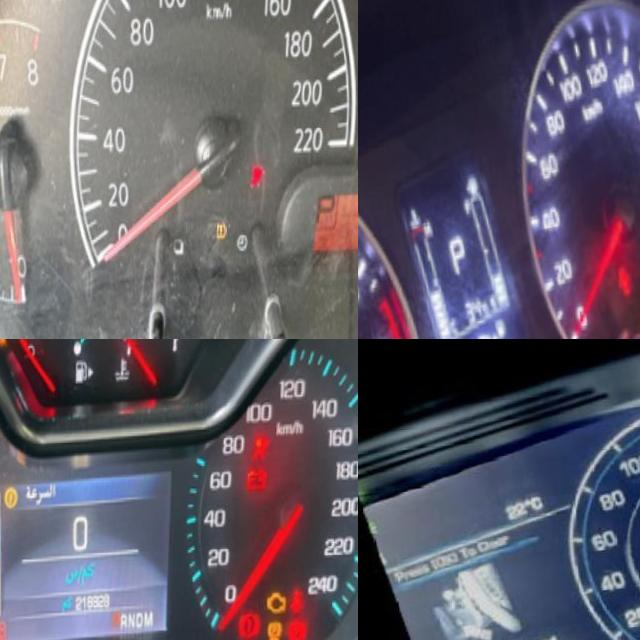Doors: (615, 264, 640, 303)
Seat Belt: (292, 588, 308, 620)
